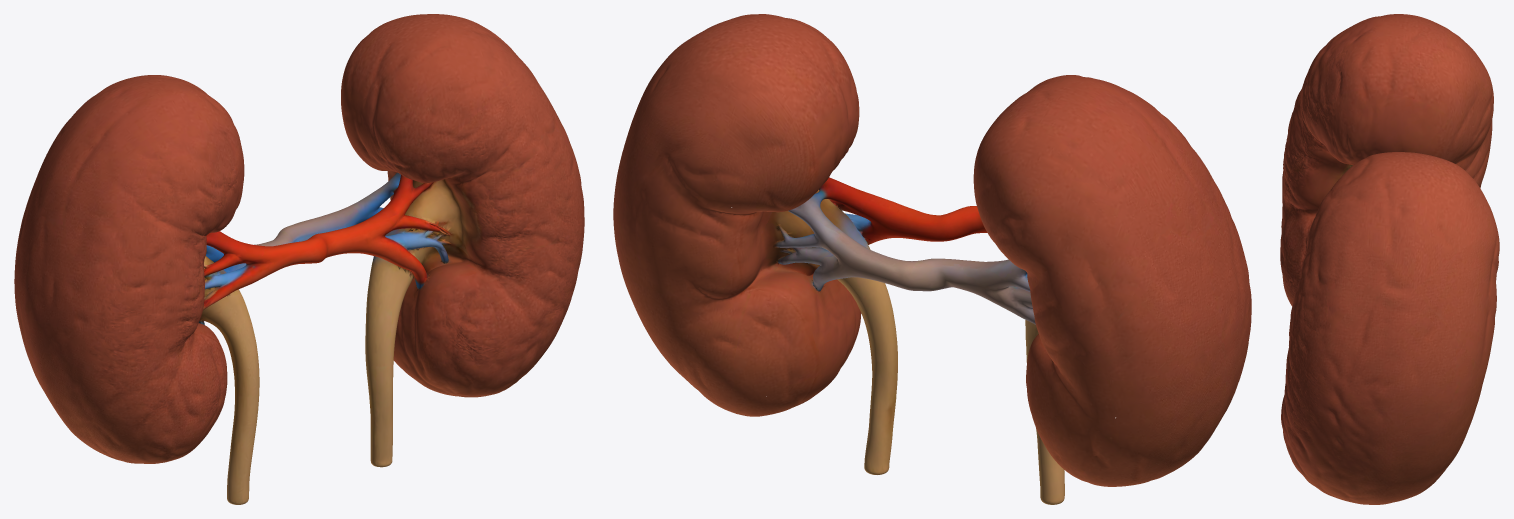
The model's file is kidneys.glb.
3 views of the same model, side by side, from view 1: azimuth 30°, elevation 25°; view 2: azimuth 150°, elevation 25°; view 3: azimuth 270°, elevation 25° (orthographic). The views are drawn at different scales.
Parts seen in each view (by area): view 1: tripo_node_e5de9656-5b36-4996-8f10-3690a202b494; view 2: tripo_node_e5de9656-5b36-4996-8f10-3690a202b494; view 3: tripo_node_e5de9656-5b36-4996-8f10-3690a202b494.
Part boxes in pixels (box(x1,y1,x2,y2)): tripo_node_e5de9656-5b36-4996-8f10-3690a202b494: box(14, 14, 584, 504); tripo_node_e5de9656-5b36-4996-8f10-3690a202b494: box(613, 14, 1251, 504); tripo_node_e5de9656-5b36-4996-8f10-3690a202b494: box(1280, 14, 1499, 504).
Bounding box in the file's own units: 0.9794 × 0.7199 × 0.3718.
1 material, 1 textured.
